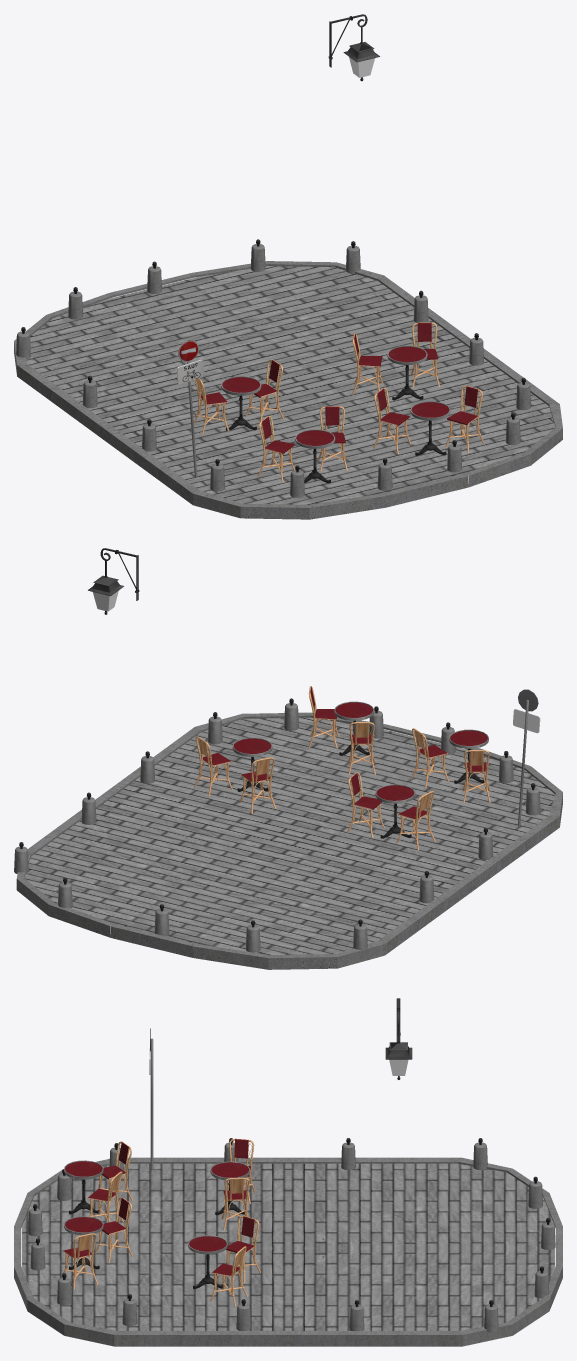
Rendered from gusteaus_extra.obj.
The picture shows the model from 3 angles, top to bottom: view 1: azimuth 30°, elevation 25°; view 2: azimuth 150°, elevation 25°; view 3: azimuth 270°, elevation 25°; orthographic projection.
Visible parts, largest first — view 1: polySurface225, polySurface231, polySurface230, polySurface187.005, polySurface187.004, polySurface187.001, polySurface188.003, polySurface188.001, polySurface188, polySurface187.003, polySurface188.002, polySurface187 (+3 smaller); view 2: polySurface225, polySurface231, polySurface230, polySurface187.007, polySurface187.003, polySurface188.001, polySurface187.002, polySurface187.006, polySurface187.001, polySurface187, polySurface187.004, polySurface188.002 (+3 smaller); view 3: polySurface225, polySurface231, polySurface187.005, polySurface187.004, polySurface187.007, polySurface188, polySurface188.003, polySurface187.006, polySurface187.003, polySurface188.001, polySurface187, polySurface187.001 (+3 smaller).
Boxes of the visible parts, left/top/right/bottom form: polySurface225: left=14, top=261, right=562, bottom=519; polySurface231: left=328, top=14, right=379, bottom=81; polySurface230: left=177, top=340, right=204, bottom=476; polySurface187.005: left=445, top=385, right=484, bottom=453; polySurface187.004: left=373, top=388, right=411, bottom=454; polySurface187.001: left=257, top=416, right=294, bottom=482; polySurface188.003: left=387, top=345, right=427, bottom=400; polySurface188.001: left=221, top=376, right=261, bottom=430; polySurface188: left=295, top=429, right=335, bottom=483; polySurface187.003: left=245, top=359, right=284, bottom=425; polySurface188.002: left=410, top=401, right=450, bottom=455; polySurface187: left=318, top=406, right=347, bottom=471; polySurface225: left=16, top=712, right=562, bottom=969; polySurface231: left=88, top=548, right=139, bottom=614; polySurface230: left=513, top=689, right=540, bottom=826; polySurface187.007: left=239, top=757, right=276, bottom=813; polySurface187.003: left=347, top=772, right=384, bottom=837; polySurface188.001: left=375, top=784, right=415, bottom=838; polySurface187.002: left=396, top=791, right=435, bottom=850; polySurface187.006: left=194, top=736, right=232, bottom=796; polySurface187.001: left=462, top=750, right=490, bottom=802; polySurface187: left=410, top=728, right=449, bottom=788; polySurface187.004: left=347, top=722, right=375, bottom=774; polySurface188.002: left=334, top=701, right=374, bottom=755; polySurface225: left=14, top=1157, right=562, bottom=1346; polySurface231: left=385, top=998, right=412, bottom=1079; polySurface187.005: left=61, top=1233, right=97, bottom=1289; polySurface187.004: left=95, top=1197, right=133, bottom=1262; polySurface187.007: left=226, top=1216, right=260, bottom=1282; polySurface188: left=64, top=1160, right=103, bottom=1214; polySurface188.003: left=188, top=1235, right=227, bottom=1289; polySurface187.006: left=210, top=1246, right=247, bottom=1306; polySurface187.003: left=221, top=1177, right=249, bottom=1230; polySurface188.001: left=210, top=1161, right=249, bottom=1215; polySurface187: left=87, top=1171, right=123, bottom=1222; polySurface187.001: left=98, top=1141, right=133, bottom=1206.
Size of the model in its own units: 9.96 by 8.04 by 13.04.
